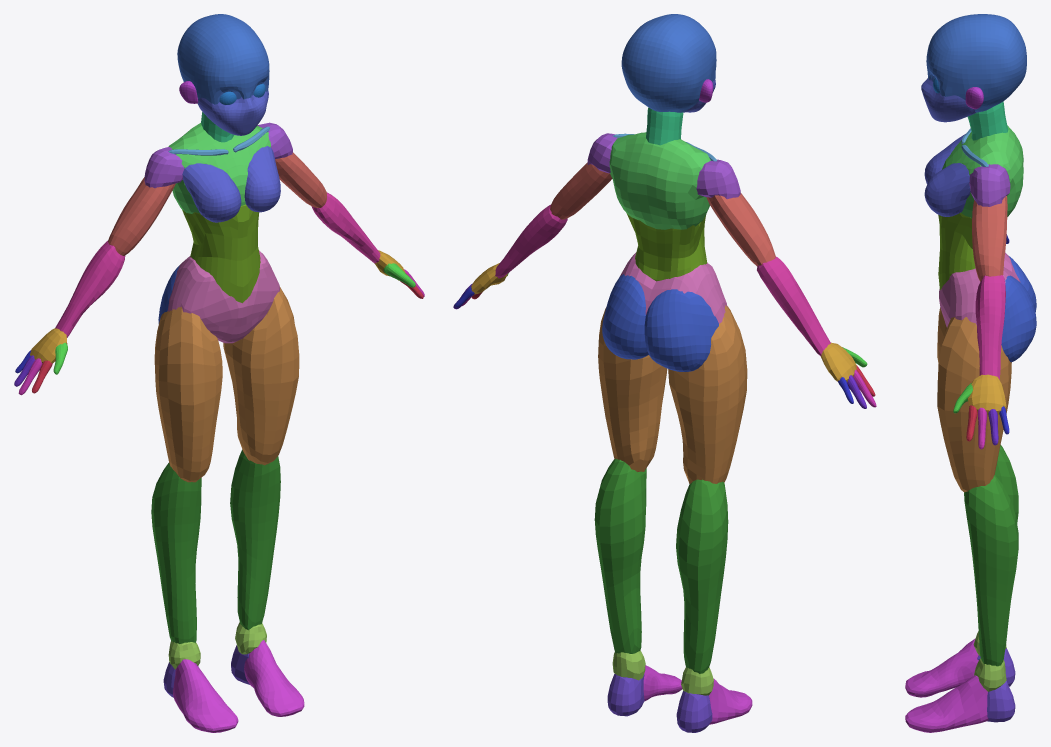
File: americaChavez_Base.obj
3 views of the same model, side by side, from view 1: azimuth 30°, elevation 25°; view 2: azimuth 150°, elevation 25°; view 3: azimuth 270°, elevation 25° (orthographic). The views are drawn at different scales.
Visible parts, largest first — view 1: toon_female_geo_grp thigh, toon_female_geo_grp shin, toon_female_geo_grp head, toon_female_geo_grp foot, toon_female_geo_grp hips, toon_female_geo_grp abs, toon_female_geo_grp breasts, toon_female_geo_grp forearm, toon_female_geo_grp arm, toon_female_geo_grp chest, toon_female_geo_grp shoulder, toon_female_geo_grp jaw (+4 smaller); view 2: toon_female_geo_grp shin, toon_female_geo_grp thigh, toon_female_geo_grp glutes, toon_female_geo_grp chest, toon_female_geo_grp head, toon_female_geo_grp forearm, toon_female_geo_grp arm, toon_female_geo_grp abs, toon_female_geo_grp heel, toon_female_geo_grp hips, toon_female_geo_grp foot, toon_female_geo_grp shoulder (+3 smaller); view 3: toon_female_geo_grp shin, toon_female_geo_grp head, toon_female_geo_grp thigh, toon_female_geo_grp foot, toon_female_geo_grp chest, toon_female_geo_grp forearm, toon_female_geo_grp glutes, toon_female_geo_grp arm, toon_female_geo_grp breasts, toon_female_geo_grp abs, toon_female_geo_grp hips, toon_female_geo_grp shoulder (+11 smaller).
Boxes of the visible parts, x1,y1,x2,y2 form: toon_female_geo_grp thigh: (154,287,299,482); toon_female_geo_grp shin: (151,449,280,643); toon_female_geo_grp head: (177,14,269,104); toon_female_geo_grp foot: (173,640,304,732); toon_female_geo_grp hips: (167,250,279,343); toon_female_geo_grp abs: (182,204,260,303); toon_female_geo_grp breasts: (182,146,280,222); toon_female_geo_grp forearm: (55,192,380,337); toon_female_geo_grp arm: (108,152,326,255); toon_female_geo_grp chest: (168,123,270,213); toon_female_geo_grp shoulder: (144,122,292,188); toon_female_geo_grp jaw: (197,90,268,135); toon_female_geo_grp shin: (594,458,728,673); toon_female_geo_grp thigh: (598,305,747,483); toon_female_geo_grp glutes: (602,274,718,371); toon_female_geo_grp chest: (609,132,710,229); toon_female_geo_grp head: (621,14,716,112); toon_female_geo_grp forearm: (495,204,830,355); toon_female_geo_grp arm: (550,162,775,266); toon_female_geo_grp abs: (626,213,707,281); toon_female_geo_grp heel: (607,674,712,732); toon_female_geo_grp hips: (620,252,727,323); toon_female_geo_grp foot: (643,665,752,724); toon_female_geo_grp shoulder: (587,133,740,199); toon_female_geo_grp shin: (964,445,1018,666); toon_female_geo_grp head: (926,14,1026,112); toon_female_geo_grp thigh: (937,307,1011,492); toon_female_geo_grp foot: (905,638,988,732); toon_female_geo_grp chest: (942,125,1023,218); toon_female_geo_grp forearm: (975,275,1005,379); toon_female_geo_grp glutes: (1001,256,1036,362); toon_female_geo_grp arm: (972,196,1007,281); toon_female_geo_grp breasts: (924,134,970,216); toon_female_geo_grp abs: (938,213,975,289); toon_female_geo_grp hips: (939,252,1020,327); toon_female_geo_grp shoulder: (969,164,1010,206).
Size of the model in its own units: 695 by 1115 by 192.
